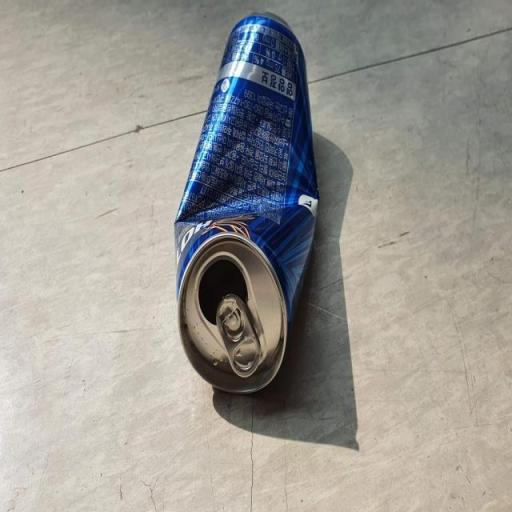metal: (136, 0, 350, 410)
